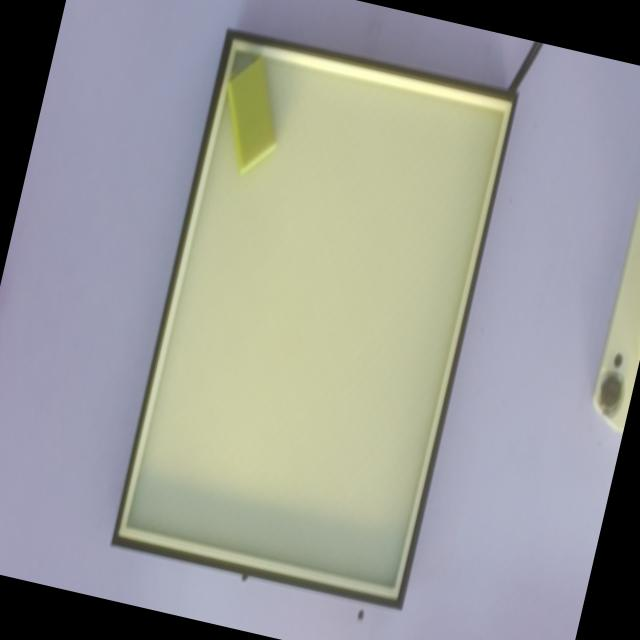bateria: (226, 53, 277, 176)
mesa: (110, 26, 518, 609)
